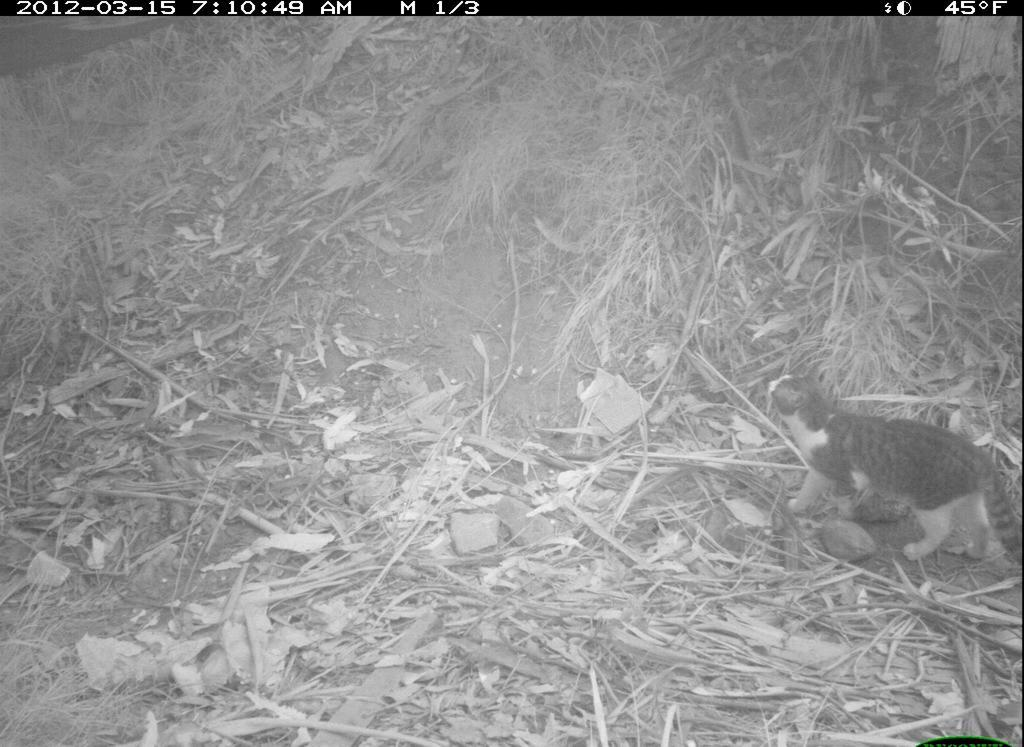cat: (765, 367, 1022, 591)
